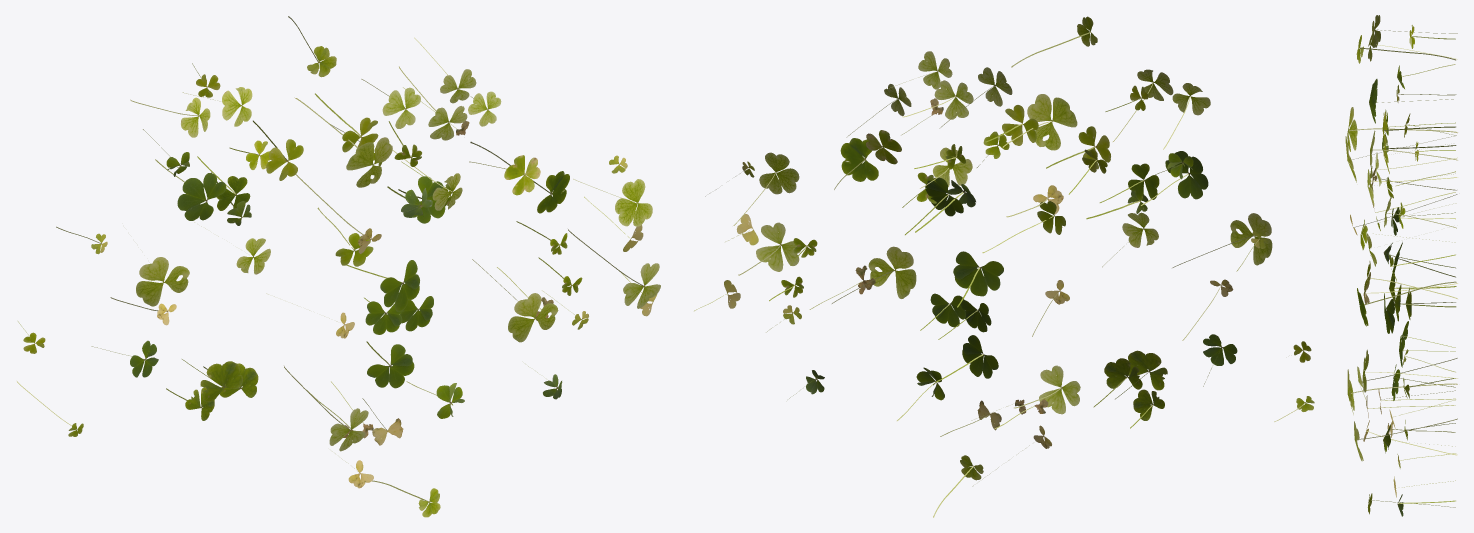
Rendered from Clovers_02_Var2_LOD0.fbx.
3 renders of one model, left to right at view 1: azimuth 30°, elevation 25°; view 2: azimuth 150°, elevation 25°; view 3: azimuth 270°, elevation 25°, orthographic. The views are drawn at different scales.
Visible parts, largest first — view 1: Var2_LOD0; view 2: Var2_LOD0; view 3: Var2_LOD0.
Boxes of the visible parts, bbox=[...] form: Var2_LOD0: bbox=[17, 16, 660, 517]; Var2_LOD0: bbox=[694, 16, 1314, 517]; Var2_LOD0: bbox=[1345, 15, 1457, 516].
Bounding box in the file's own units: 67.06 × 51.71 × 12.43.
